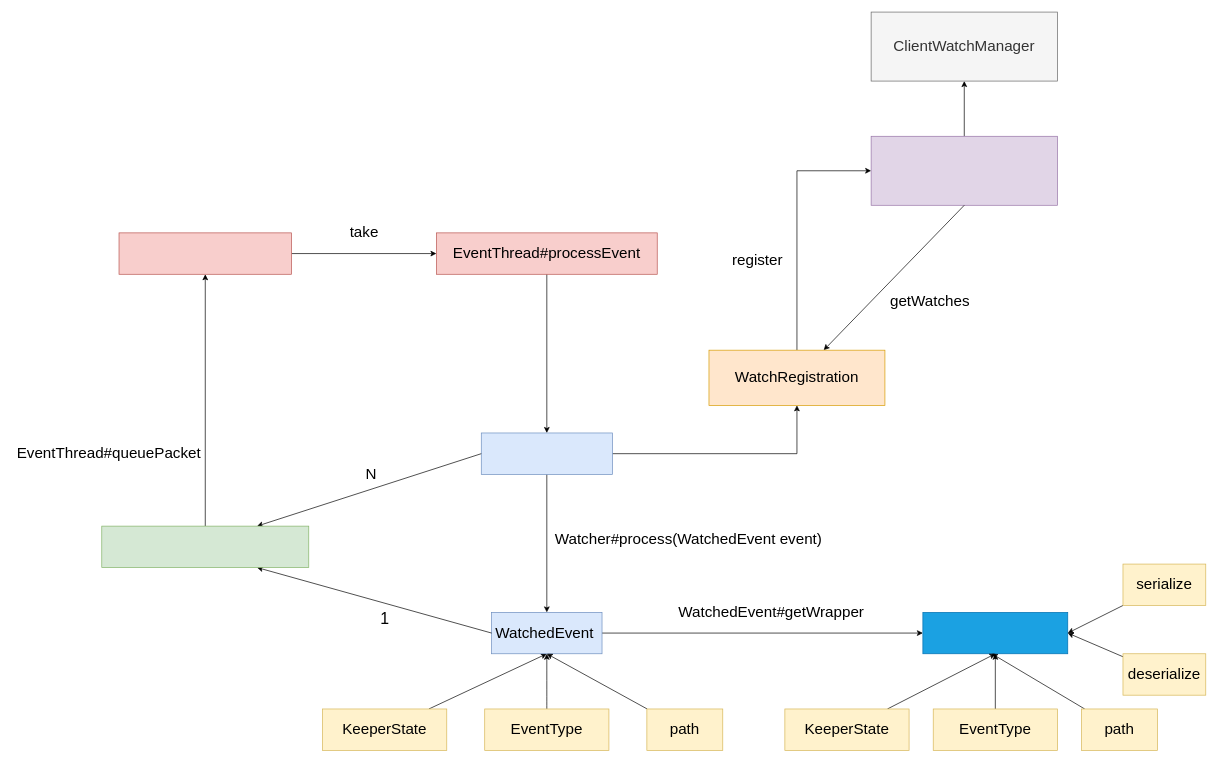
Some shapes in this 1218 by 762 pixel diagram are drawn without their labels. Each missing label, with the centre of its shape:
waitingEvents: point (205, 253)
Watcher: point (546, 453)
WatcherEvent: point (995, 633)
WatcherSetEventPair: point (205, 546)
ZKWatchManager: point (963, 170)
